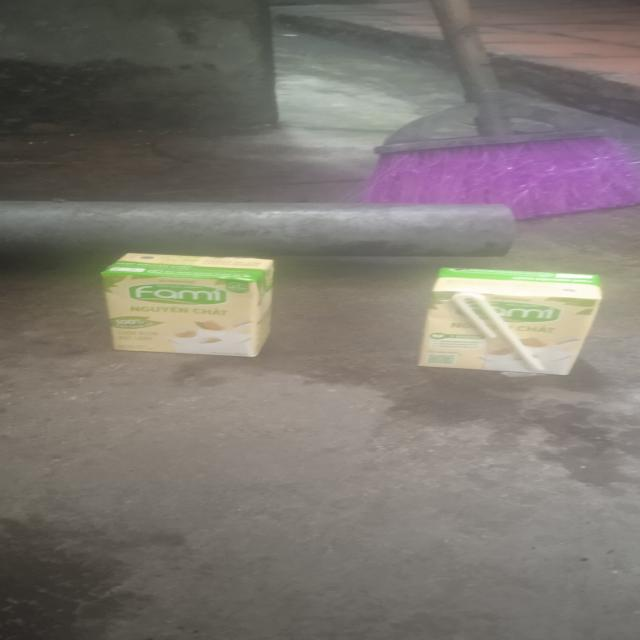Fami: (416, 265, 606, 374), (101, 251, 275, 360)
